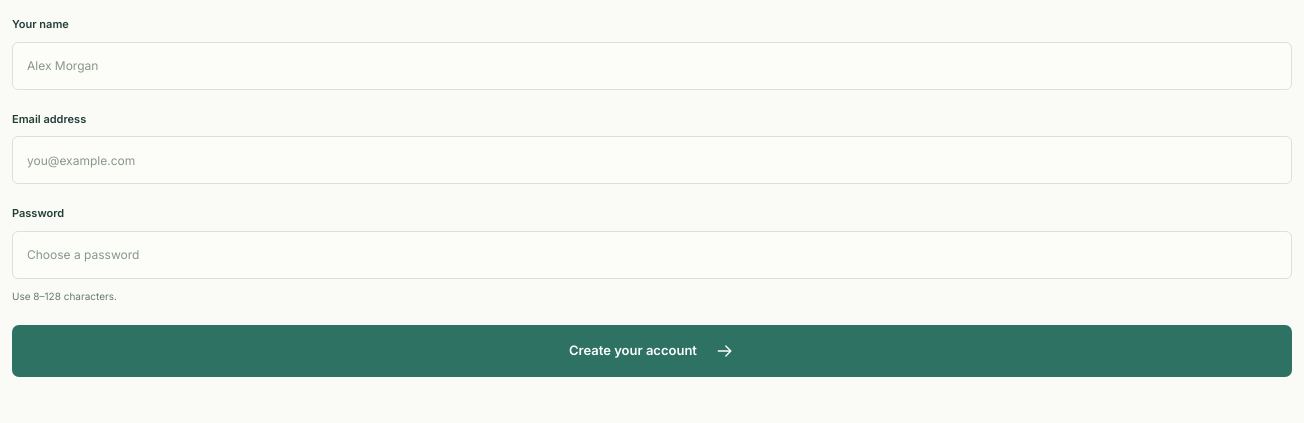
Test case: authentication forms › register trims identity but preserves password bytes
The image size is (1304, 423).
Type "  Alex  " into the field labelled "Your name" at (652, 66), box [12,42,1292,90]
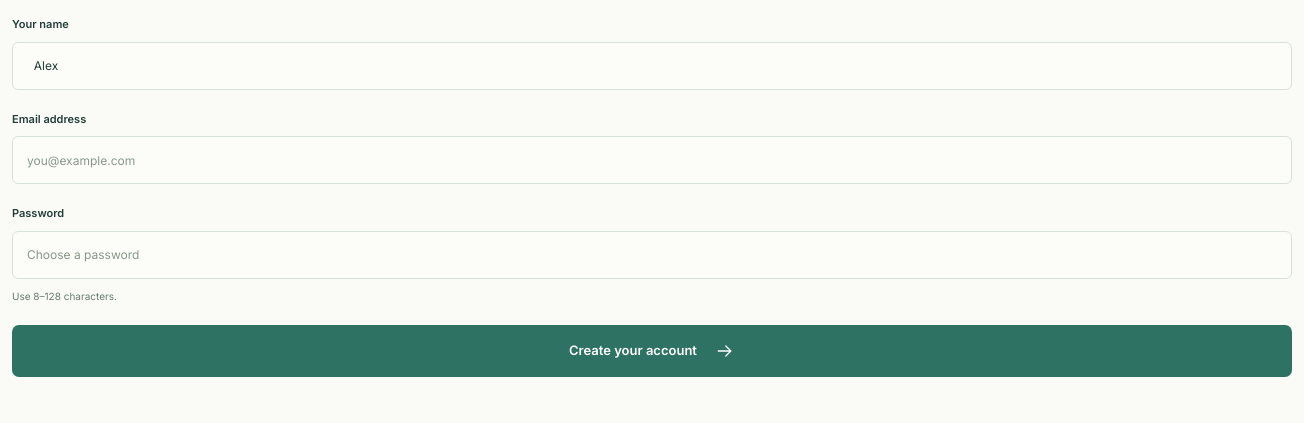
Type "  alex@example.test  " into the field labelled "Email address" at (652, 160), box [12,136,1292,184]
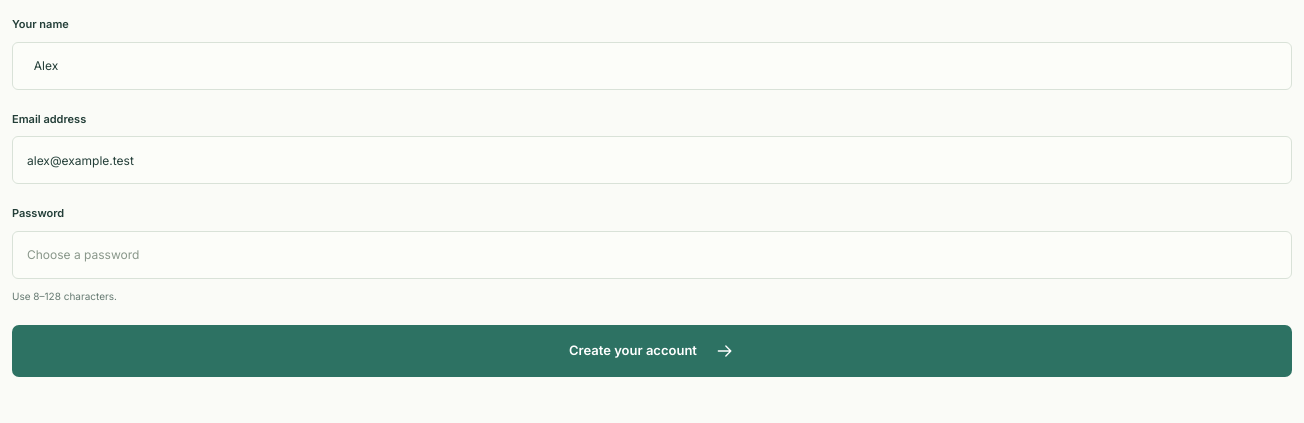
Type " exact password " into the password field labelled "Password" at (652, 254), box [12,230,1292,278]
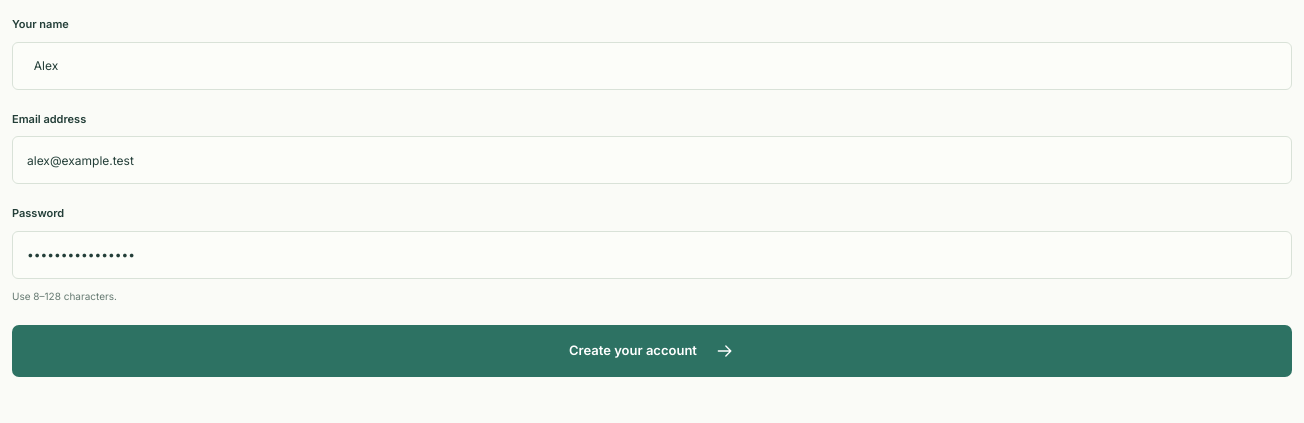
Submit the form
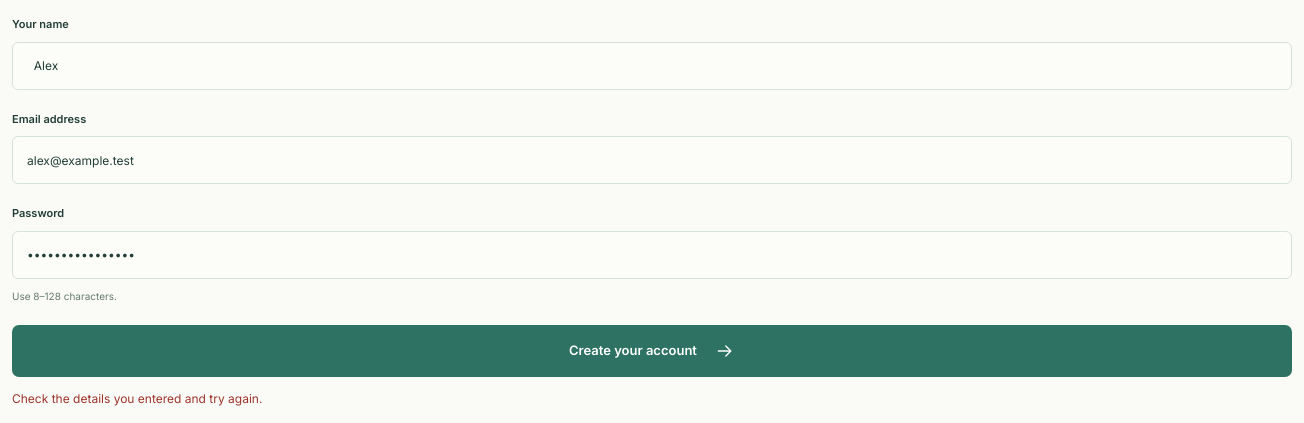
Now the text "Check the details you entered and try again." is shown, box [12,390,262,406]
